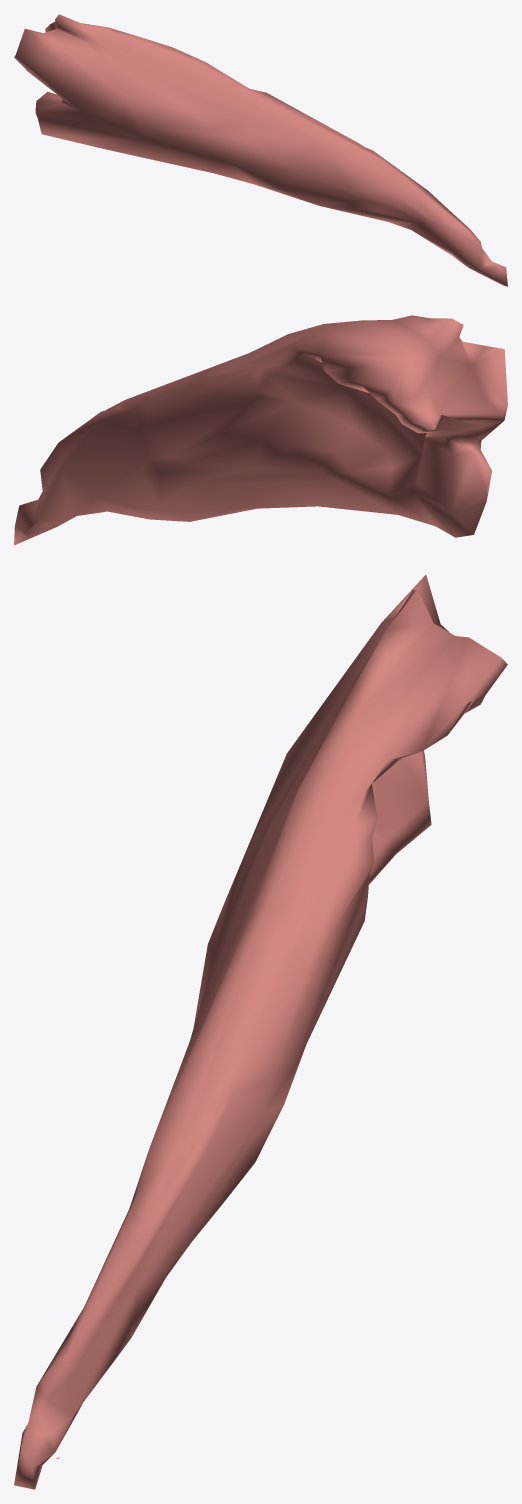
3 views of the same model, one above another, from view 1: azimuth 30°, elevation 25°; view 2: azimuth 150°, elevation 25°; view 3: azimuth 270°, elevation 25° (orthographic). The views are drawn at different scales.
Visible parts, largest first — view 1: ZA_74b8ac7738712b84; view 2: ZA_74b8ac7738712b84; view 3: ZA_74b8ac7738712b84.
Part boxes in pixels (x1,y1,x2,y2): ZA_74b8ac7738712b84: (14, 14, 507, 286); ZA_74b8ac7738712b84: (14, 315, 507, 545); ZA_74b8ac7738712b84: (14, 575, 507, 1489).
Bounding box in the file's own units: 0.044 × 0.0311 × 0.0247.
